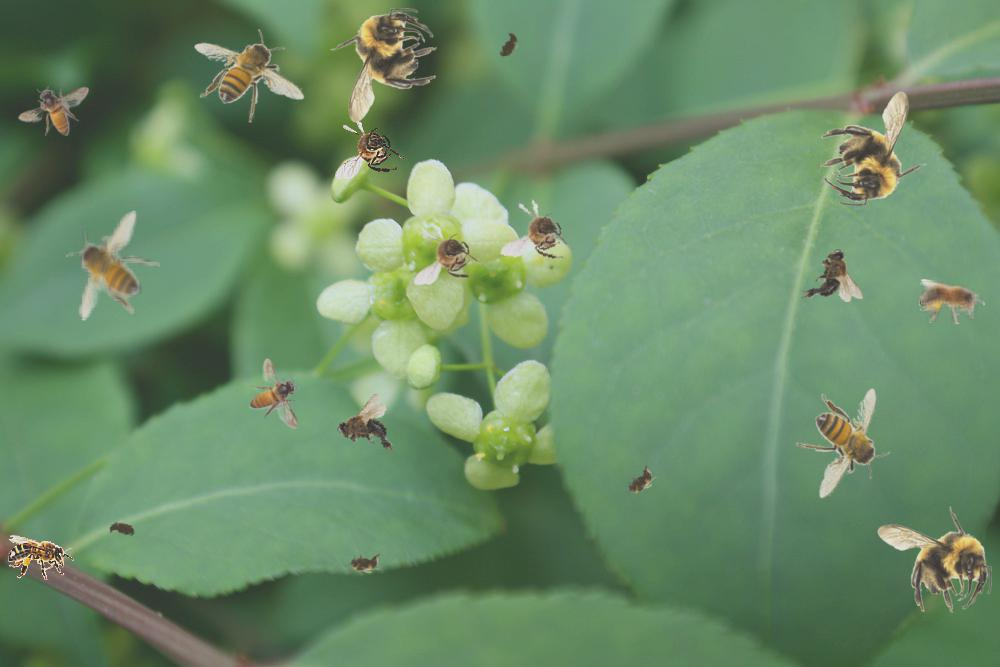Bee: (877, 506, 992, 613), (330, 8, 437, 123), (820, 91, 927, 206), (66, 210, 160, 321), (194, 29, 305, 123), (796, 388, 890, 499), (499, 194, 582, 270), (330, 392, 399, 466), (335, 118, 405, 179), (414, 224, 484, 285), (18, 86, 89, 136), (249, 358, 299, 429), (801, 249, 863, 302), (8, 535, 74, 580), (919, 279, 985, 324), (617, 460, 663, 504), (487, 23, 529, 69), (100, 513, 146, 547), (344, 552, 384, 574)
